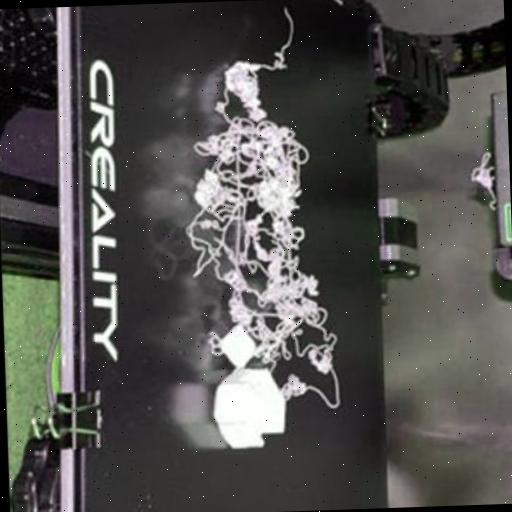spaghetti: (179, 52, 343, 413), (468, 149, 499, 209), (270, 4, 296, 70)
